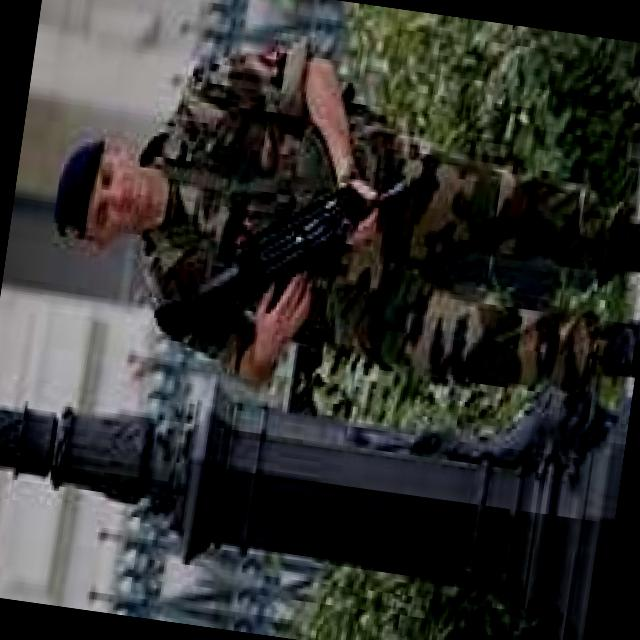long weapon: (142, 115, 416, 410)
